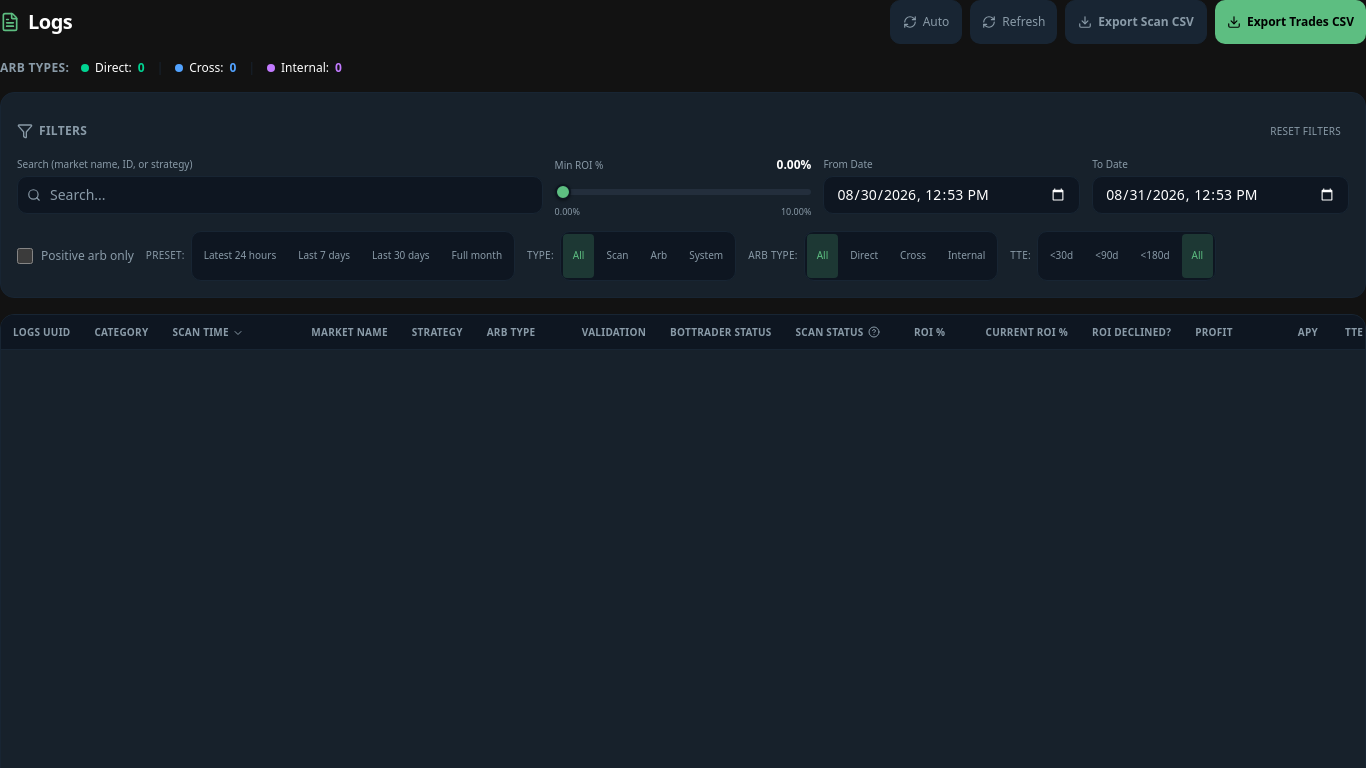
Scenario: LogsPanel › synchronously invalidates a pending append and resets virtual scroll for TTE changes
This screenshot has width=1366, height=768.
(page scrolled)
Click the button named "TTE under 90 days" at (1107, 256), box x1=1085 y1=234 x2=1128 y2=278
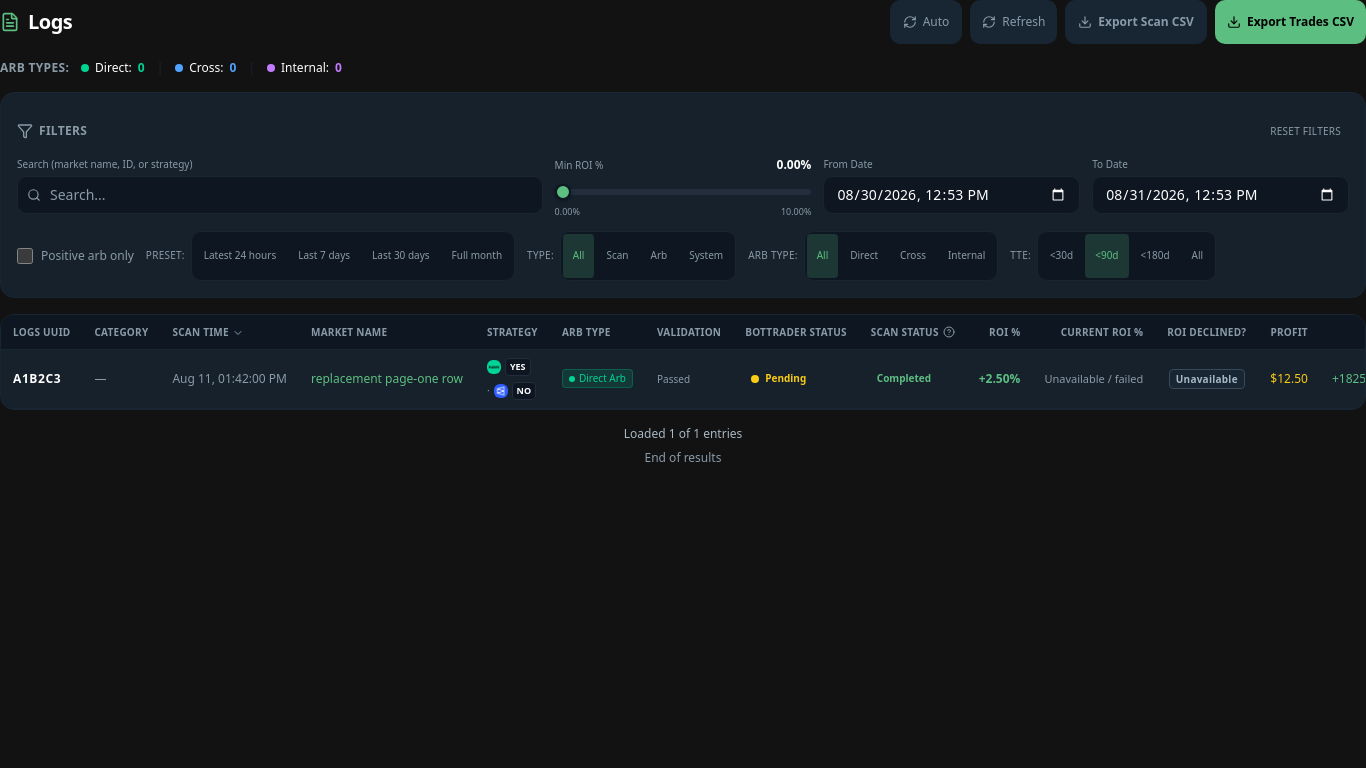
Check: the button "replacement page-one row" is shown, box x1=311 y1=370 x2=463 y2=387
